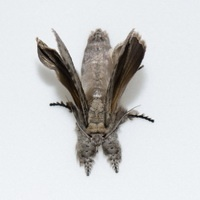insect: (36, 29, 153, 174)
